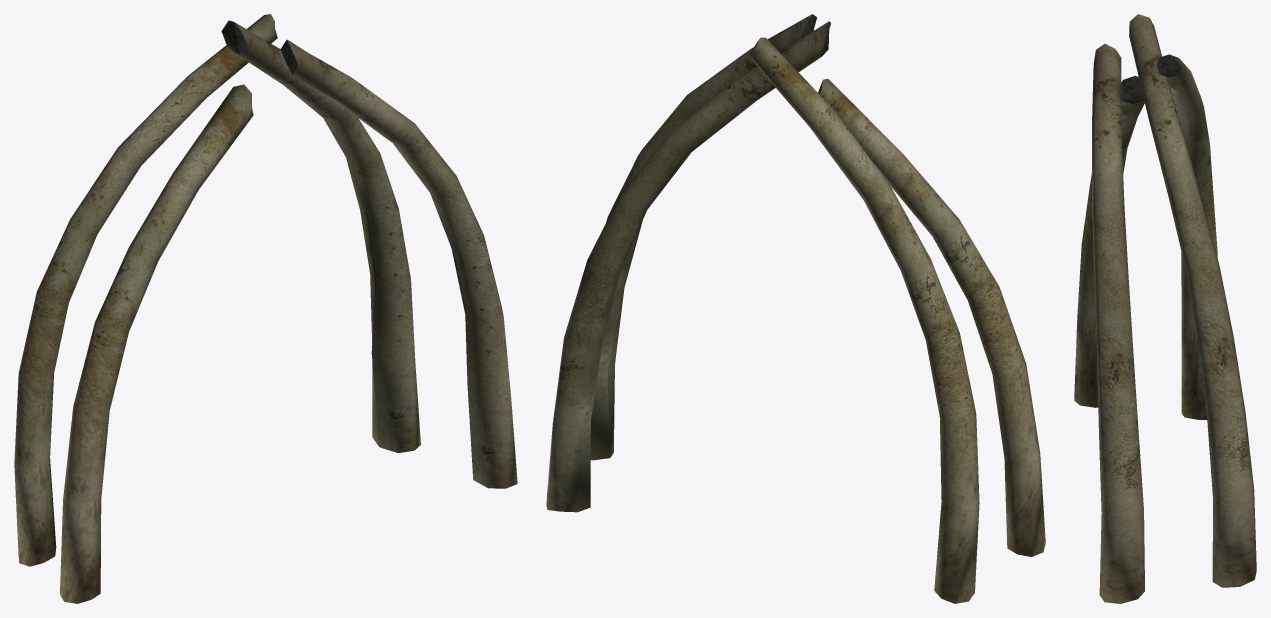
Rendered from bone_whale_deco00.fbx.
3 views of the same model, side by side, from view 1: azimuth 30°, elevation 25°; view 2: azimuth 150°, elevation 25°; view 3: azimuth 270°, elevation 25° (orthographic). The views are drawn at different scales.
Visible parts, largest first — view 1: bone_whale_deco00; view 2: bone_whale_deco00; view 3: bone_whale_deco00.
Part boxes in pixels (x1=…): bone_whale_deco00: x1=14, y1=14, x2=517, y2=603; bone_whale_deco00: x1=546, y1=14, x2=1045, y2=603; bone_whale_deco00: x1=1074, y1=14, x2=1256, y2=603.
Size of the model in its own units: 12.11 by 12.99 by 4.48.
